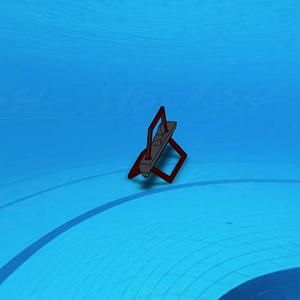submarine: (128, 107, 187, 182)
